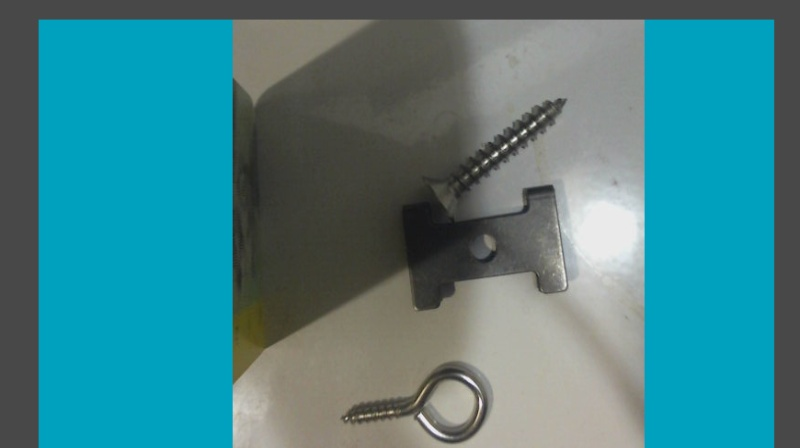O001: (335, 364, 490, 447)
O002: (399, 183, 570, 312)
S001: (415, 92, 567, 218)
